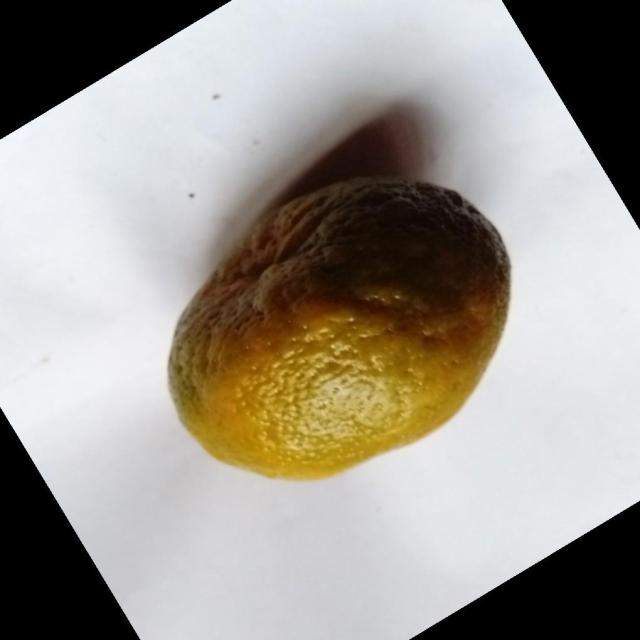fresh orange: (166, 174, 512, 481)
